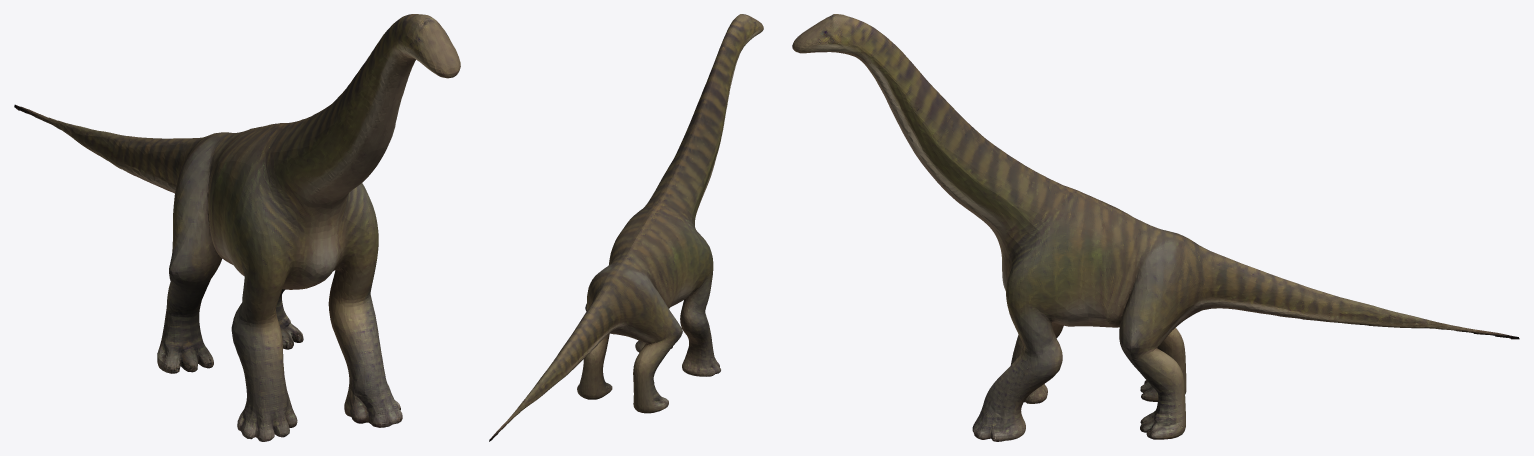
3 views of the same model, side by side, from view 1: azimuth 30°, elevation 25°; view 2: azimuth 150°, elevation 25°; view 3: azimuth 270°, elevation 25° (orthographic). The views are drawn at different scales.
Visible parts, largest first — view 1: world; view 2: world; view 3: world.
Boxes of the visible parts, x1,y1,x2,y2 form: world: (14, 14, 460, 441); world: (489, 14, 763, 441); world: (792, 14, 1519, 441).
Bounding box in the file's own units: 0.189 × 0.5592 × 0.9179.
1 material, 1 textured.
